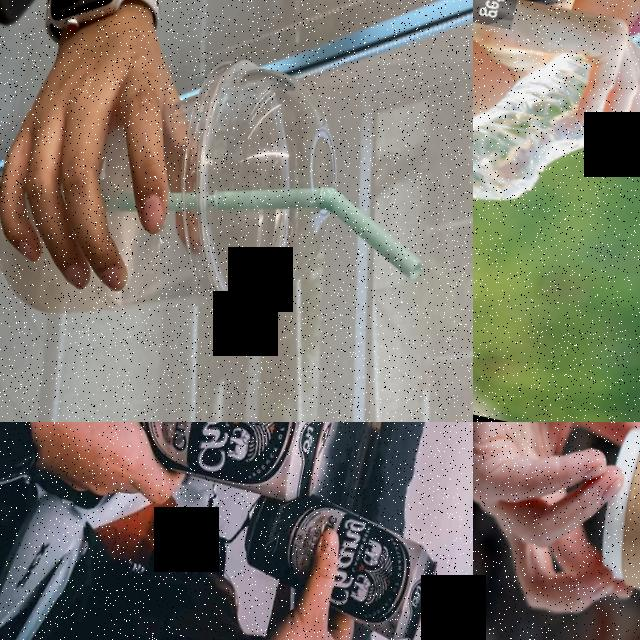bottle: (473, 0, 640, 232)
can: (230, 477, 449, 640), (115, 422, 340, 507)
cup: (0, 13, 358, 369), (583, 422, 640, 638)
